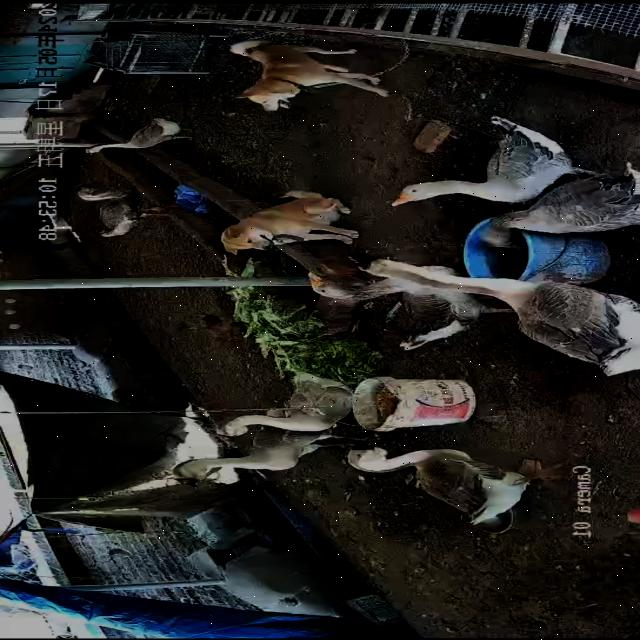dog: (229, 40, 392, 112), (221, 189, 361, 255)
